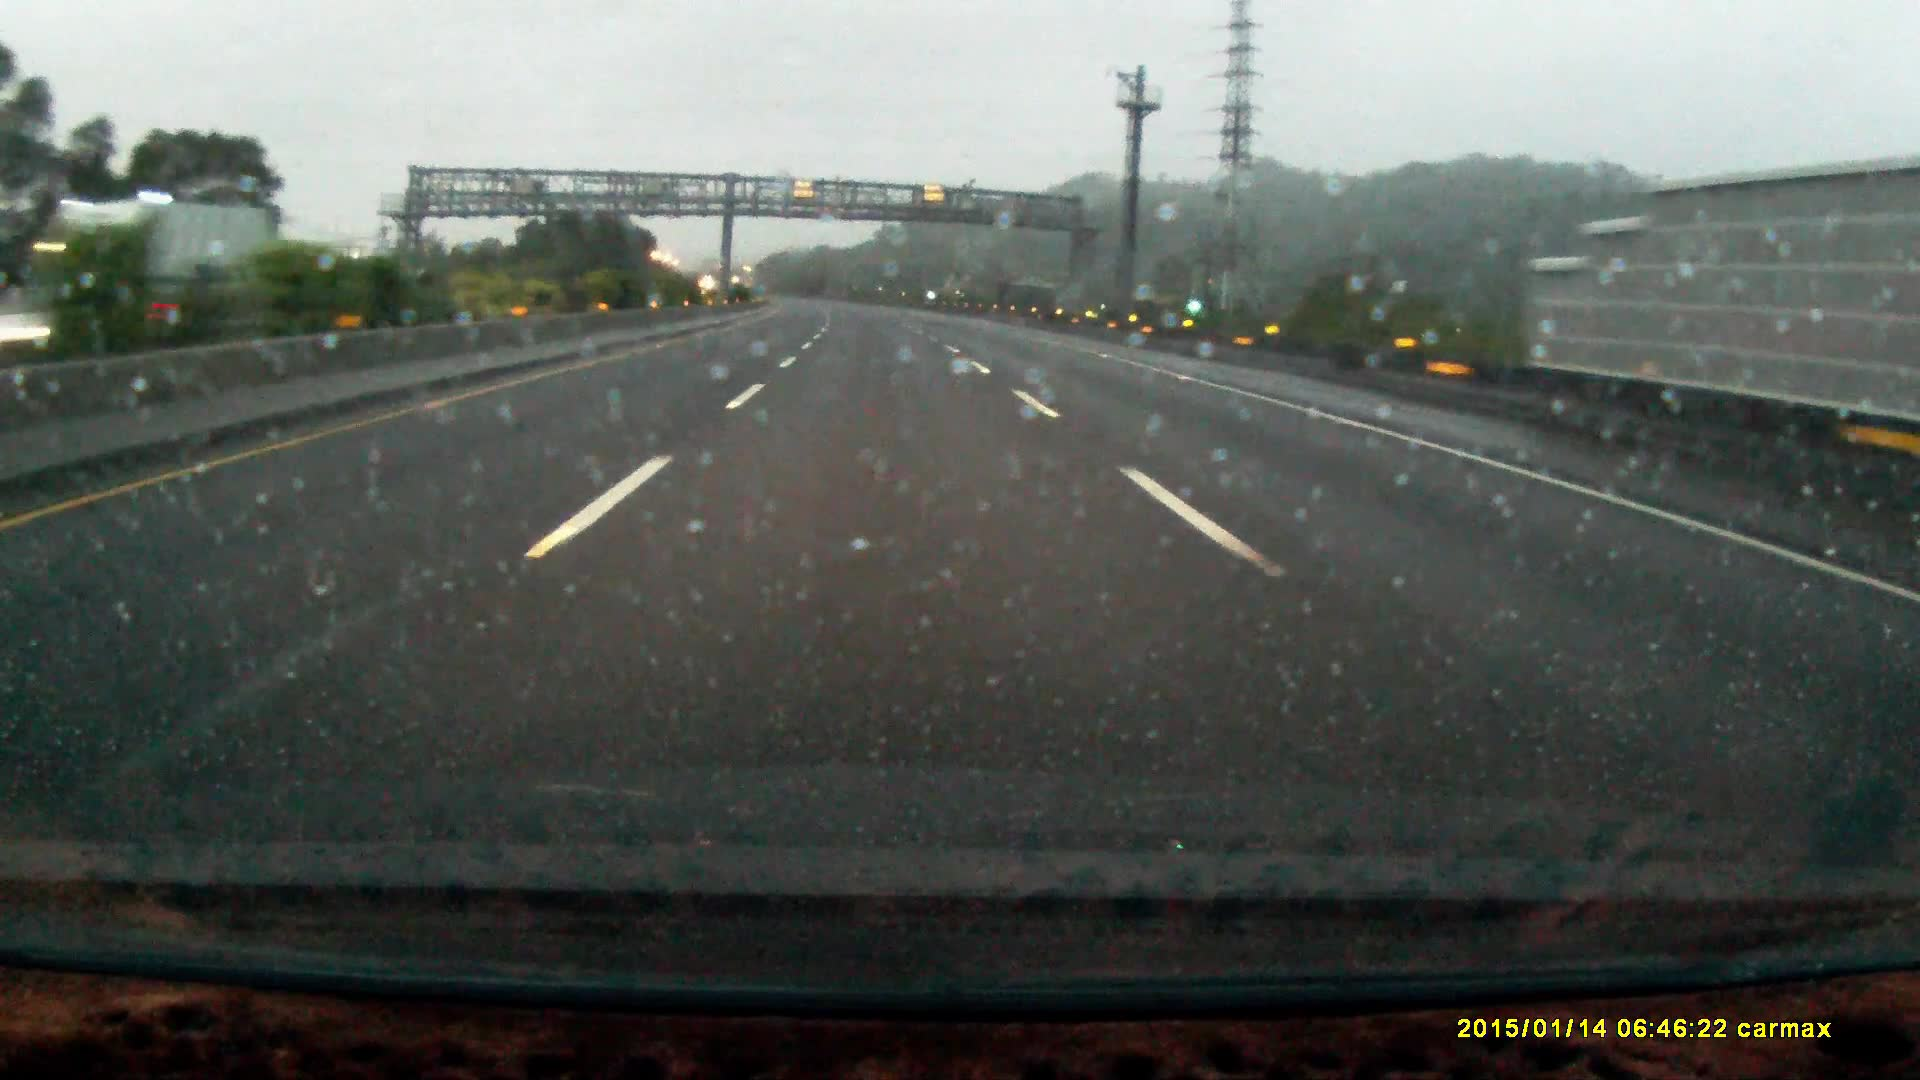vehicle: (30, 199, 269, 328), (1, 281, 146, 373)
